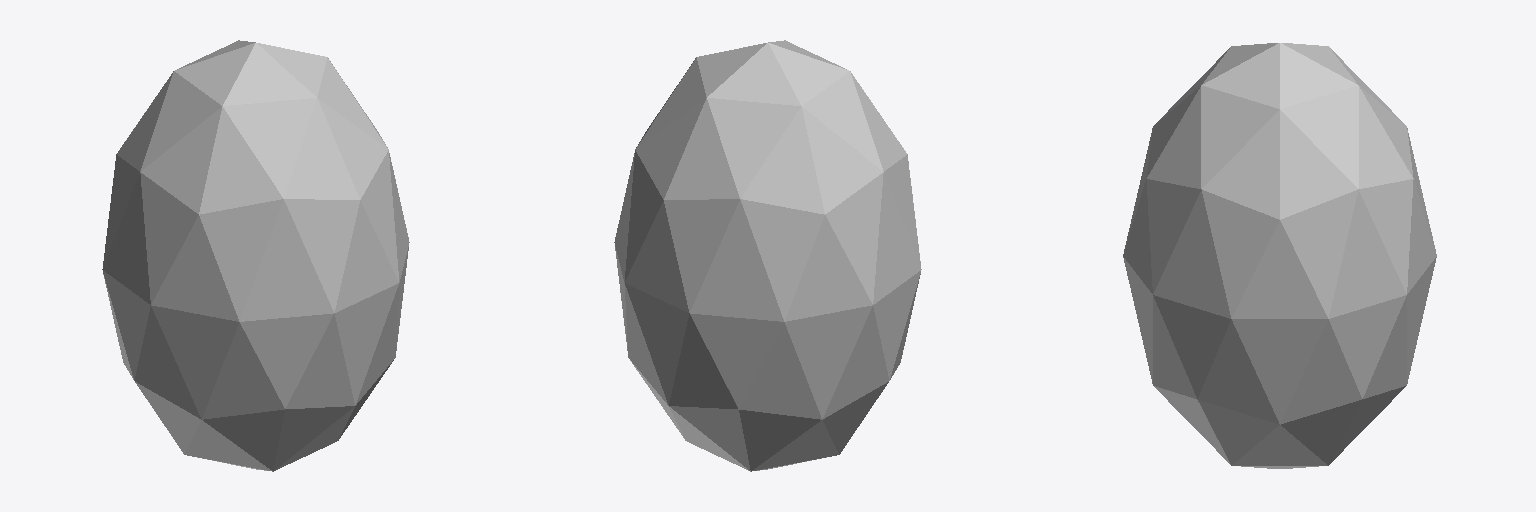
File: PowerUp.obj
3 renders of one model, left to right at view 1: azimuth 30°, elevation 25°; view 2: azimuth 150°, elevation 25°; view 3: azimuth 270°, elevation 25°, orthographic.
Parts seen in each view (by area): view 1: PowerUp_Icosphere; view 2: PowerUp_Icosphere; view 3: PowerUp_Icosphere.
Part boxes in pixels (bbox=[...]): PowerUp_Icosphere: bbox=[102, 40, 409, 471]; PowerUp_Icosphere: bbox=[614, 40, 921, 471]; PowerUp_Icosphere: bbox=[1123, 43, 1436, 468].
Bounding box in the file's own units: 0.3804 × 0.6 × 0.4.